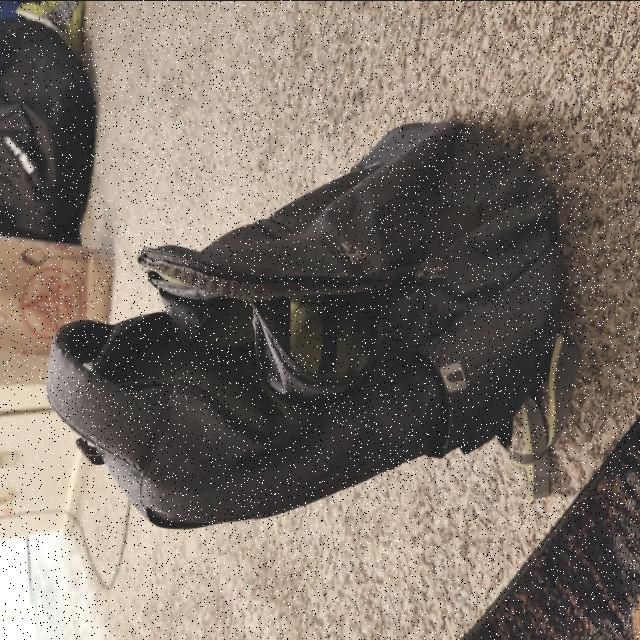bag: (50, 135, 538, 513)
